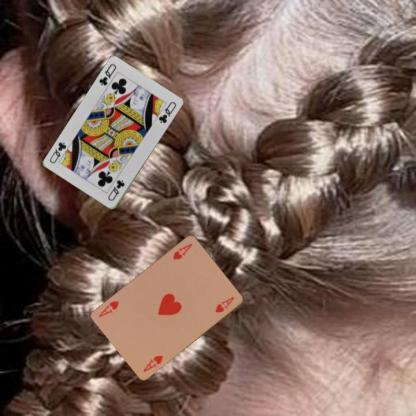Ah: (170, 240, 194, 260), (140, 352, 164, 372)
Qc: (96, 61, 118, 87), (105, 178, 126, 202)
